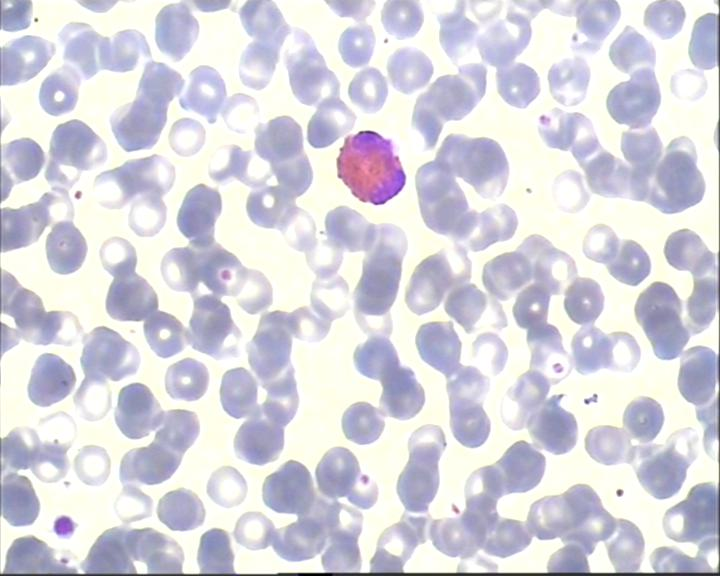eosi: (331, 123, 411, 210)
